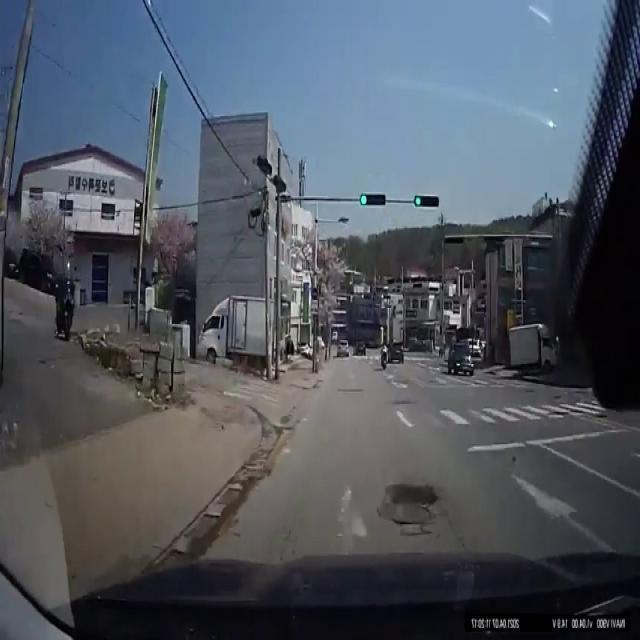pothole: (384, 479, 437, 514)
